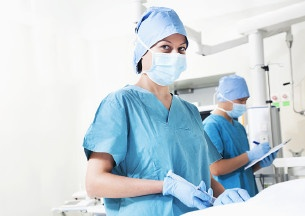Mask: (144, 34, 195, 85)
